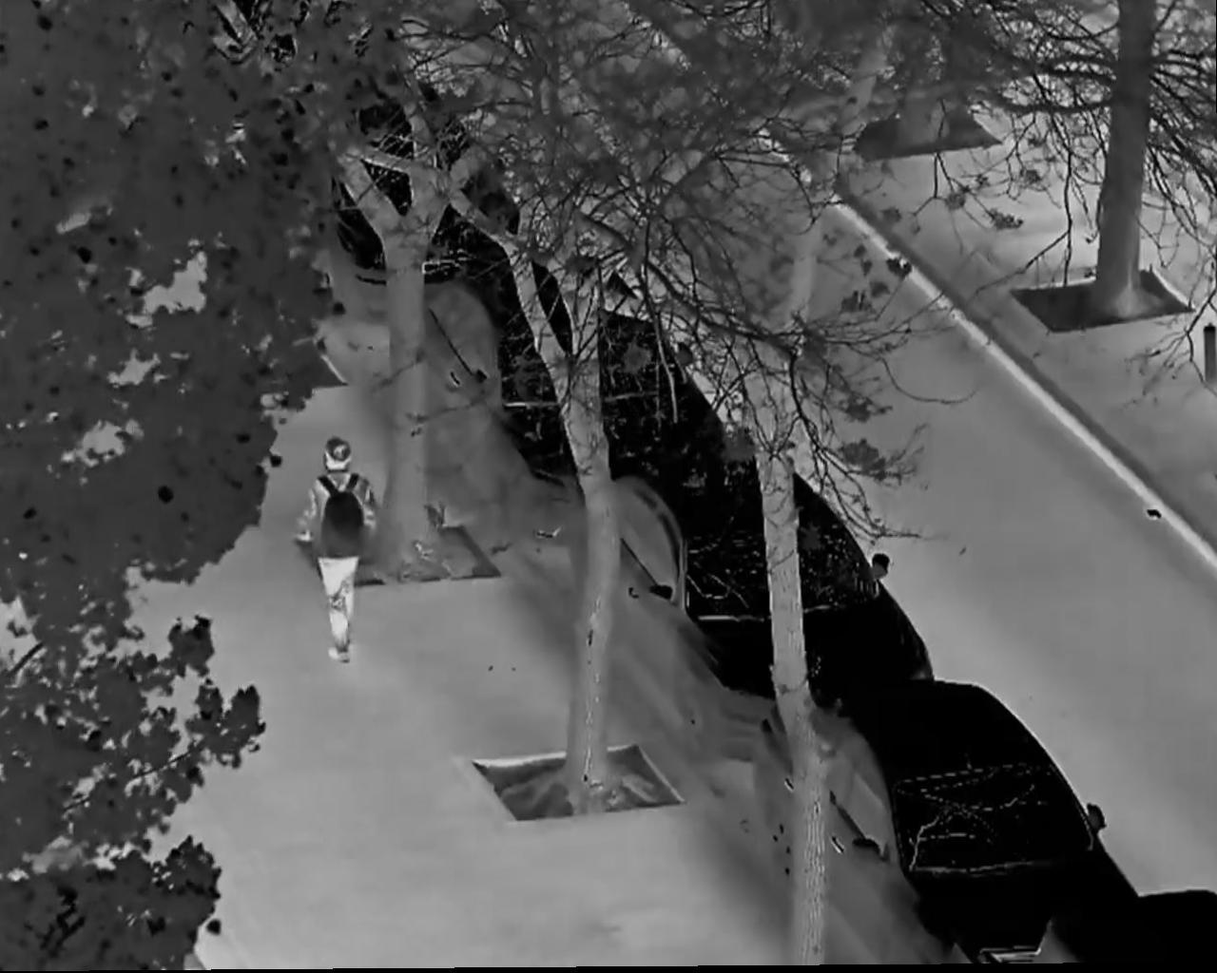person: (293, 437, 385, 668)
